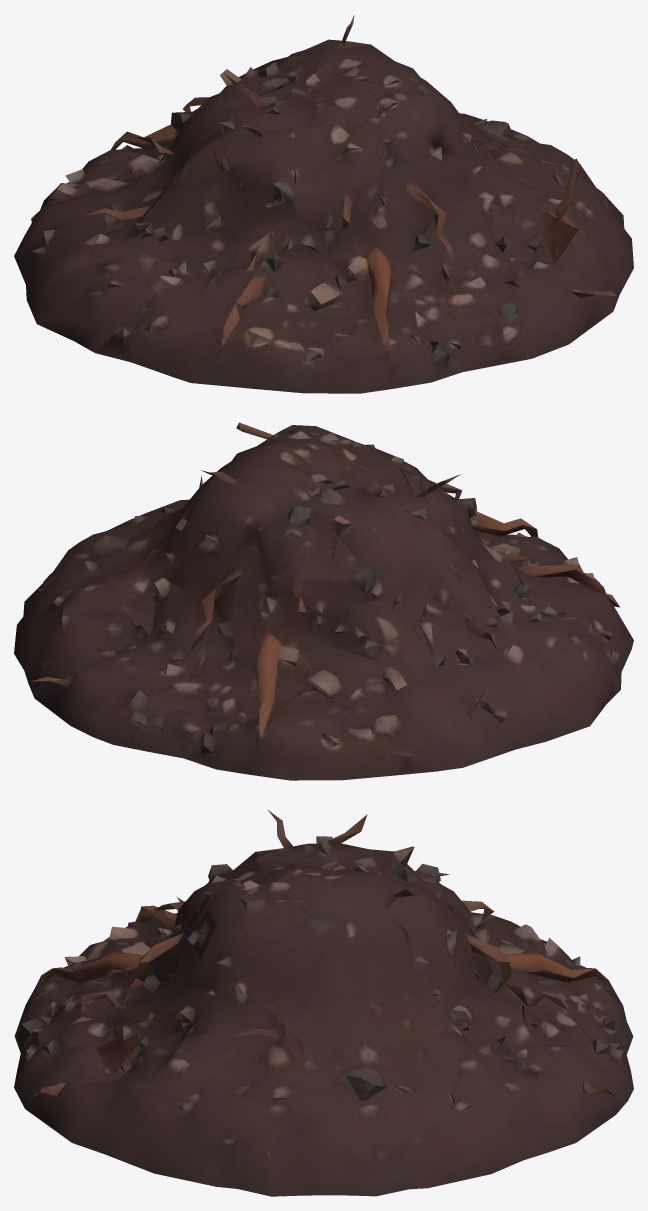
File: soil_clump_chernozem_idle.glb
3 views of the same model, one above another, from view 1: azimuth 30°, elevation 25°; view 2: azimuth 150°, elevation 25°; view 3: azimuth 270°, elevation 25° (orthographic). The views are drawn at different scales.
Visible parts, largest first — view 1: tripo_node_95ab535d-1d0a-40d2-b723-76a62144f9e8; view 2: tripo_node_95ab535d-1d0a-40d2-b723-76a62144f9e8; view 3: tripo_node_95ab535d-1d0a-40d2-b723-76a62144f9e8.
Boxes of the visible parts, bbox=[...] form: tripo_node_95ab535d-1d0a-40d2-b723-76a62144f9e8: bbox=[14, 15, 633, 393]; tripo_node_95ab535d-1d0a-40d2-b723-76a62144f9e8: bbox=[14, 422, 633, 780]; tripo_node_95ab535d-1d0a-40d2-b723-76a62144f9e8: bbox=[14, 810, 633, 1196].
Size of the model in its own units: 0.3486 by 0.119 by 0.3264.
Materials: 1 (1 with a texture image).
